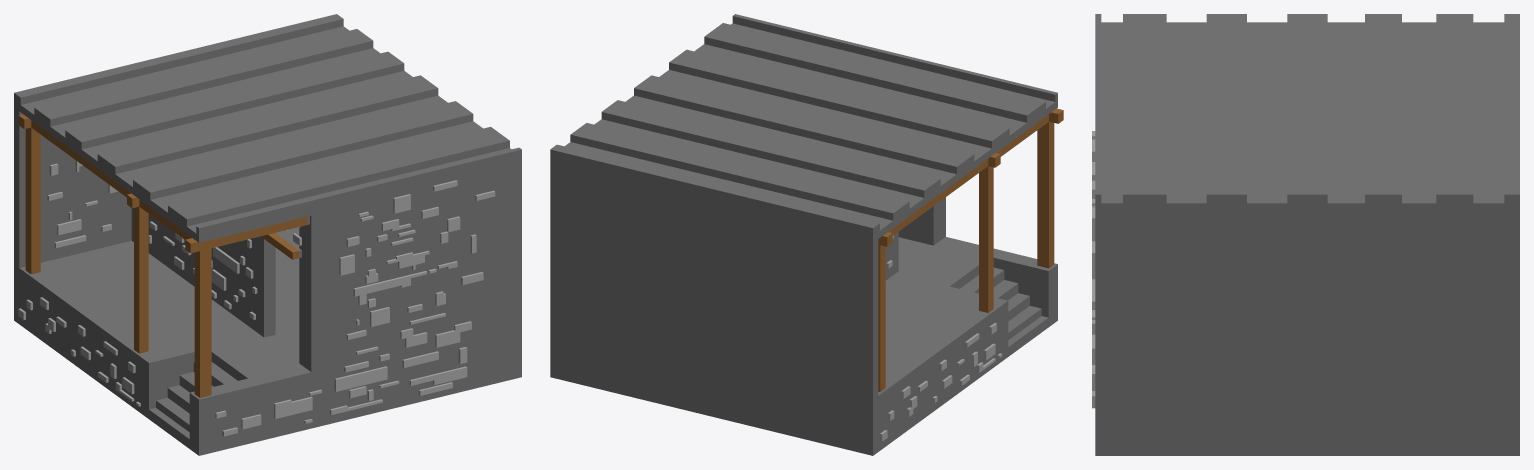
The model's file is grup8-kilimci-a.fbx.
3 renders of one model, left to right at view 1: azimuth 30°, elevation 25°; view 2: azimuth 150°, elevation 25°; view 3: azimuth 270°, elevation 25°, orthographic. The views are drawn at different scales.
Visible parts, largest first — view 1: Untitled; view 2: Untitled; view 3: Untitled.
Boxes of the visible parts, x1,y1,x2,y2 form: Untitled: (14, 14, 521, 455); Untitled: (550, 14, 1063, 455); Untitled: (1092, 14, 1519, 455).
Size of the model in its own units: 1410 by 930 by 1380.
1 material, 1 textured.
